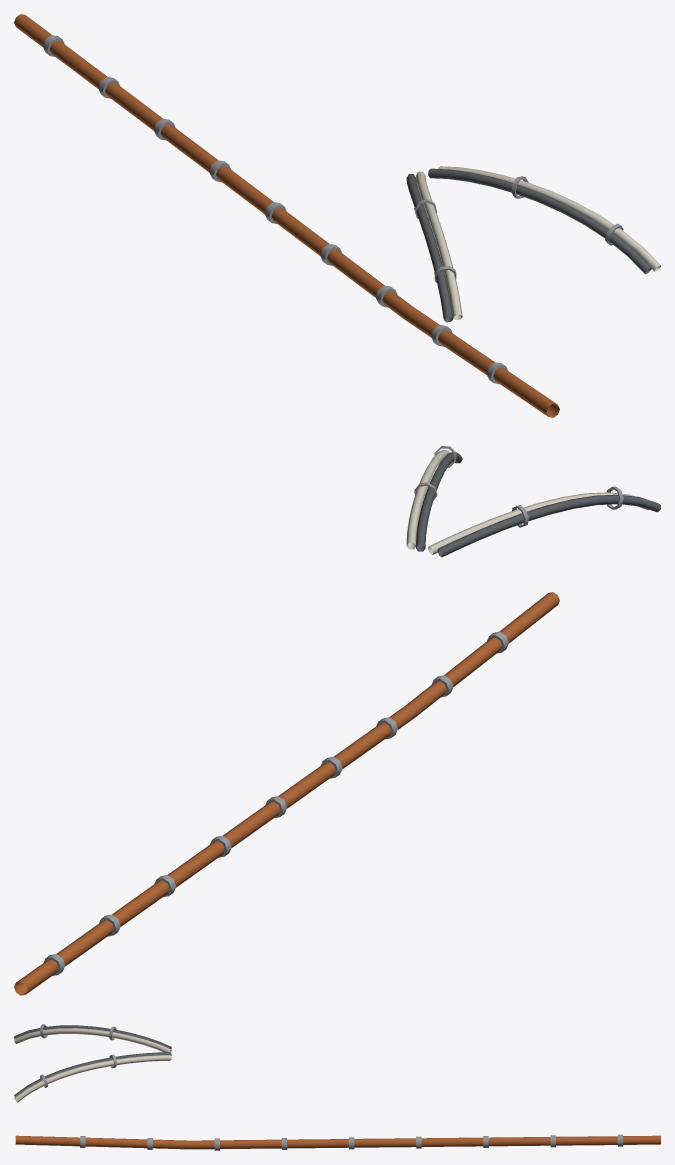
Rendered from fl_harness.obj.
3 renders of one model, top to bottom at view 1: azimuth 30°, elevation 25°; view 2: azimuth 150°, elevation 25°; view 3: azimuth 270°, elevation 25°, orthographic. The views are drawn at different scales.
Parts seen in each view (by area): view 1: fl_harness; view 2: fl_harness; view 3: fl_harness.
Part boxes in pixels (<box>): fl_harness: <box>14,14,660,417</box>; fl_harness: <box>14,446,660,995</box>; fl_harness: <box>14,1024,660,1150</box>.
Size of the model in its own units: 1.41 by 1.12 by 6.02.
